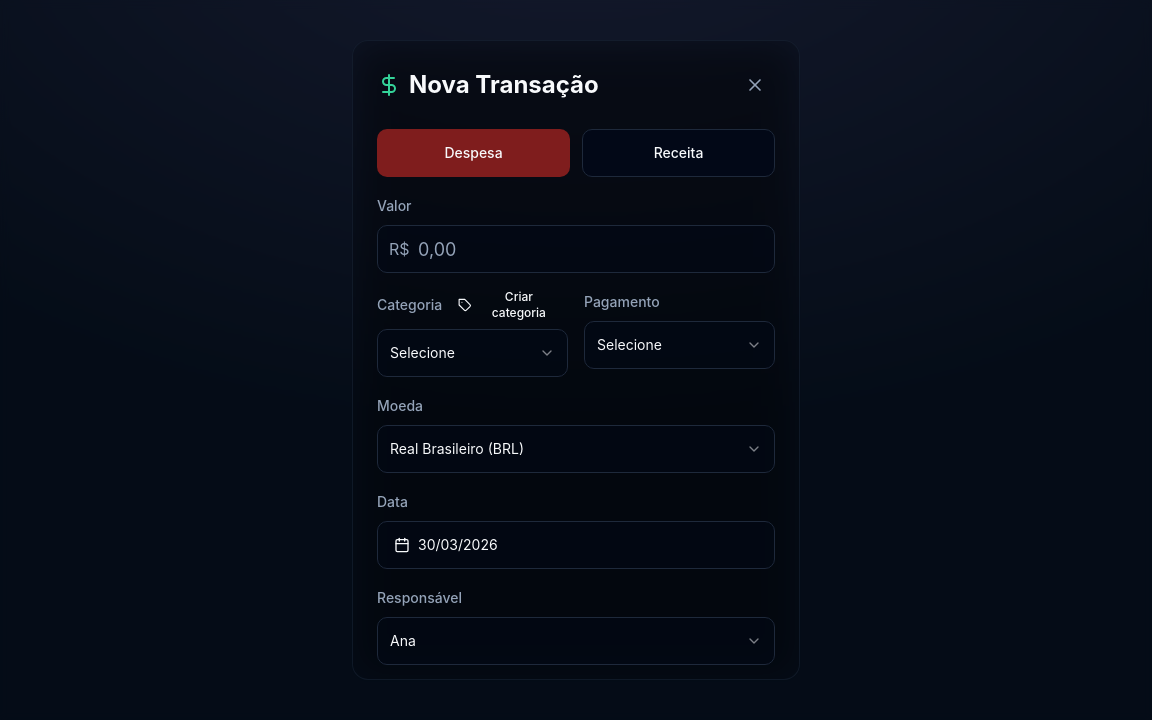
Test: TransactionForm – form validation and submission › shows category field when switching back to expense type
What coordinates should you click on to do the following:
click the button "Receita"
I would click on:
 (678, 153)
Its box is [582, 129, 775, 177].
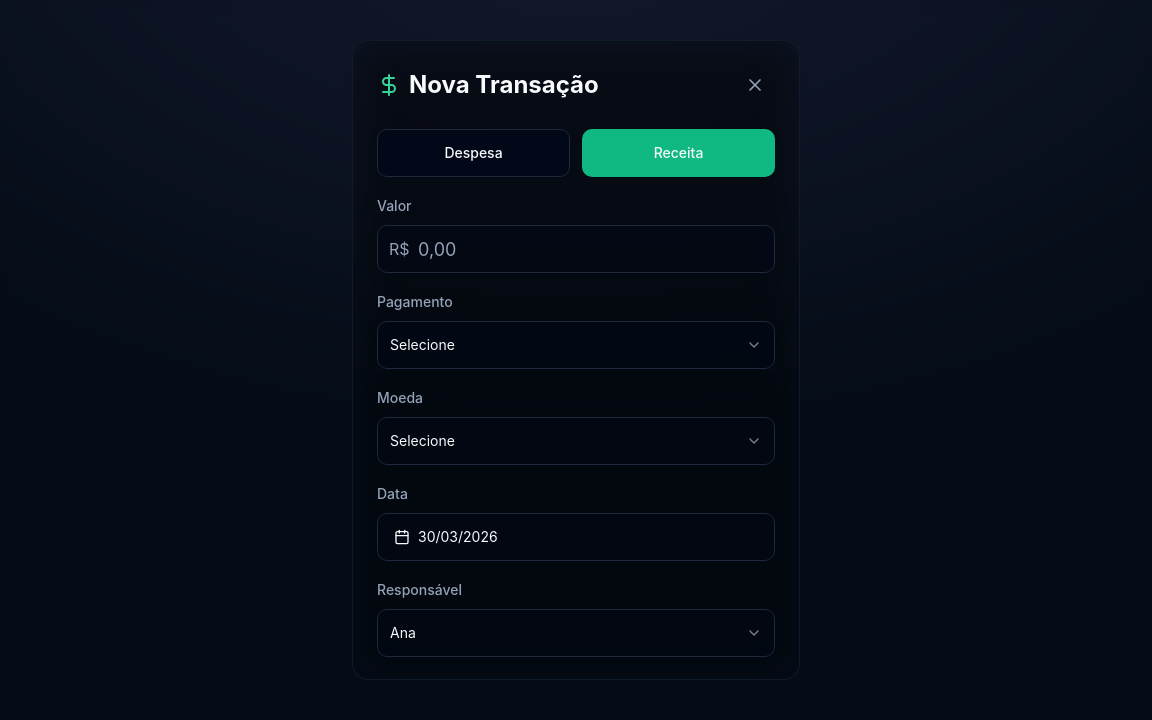
What coordinates should you click on to do the following:
click the button "Despesa"
I would click on:
 (474, 153)
Its box is [377, 129, 570, 177].
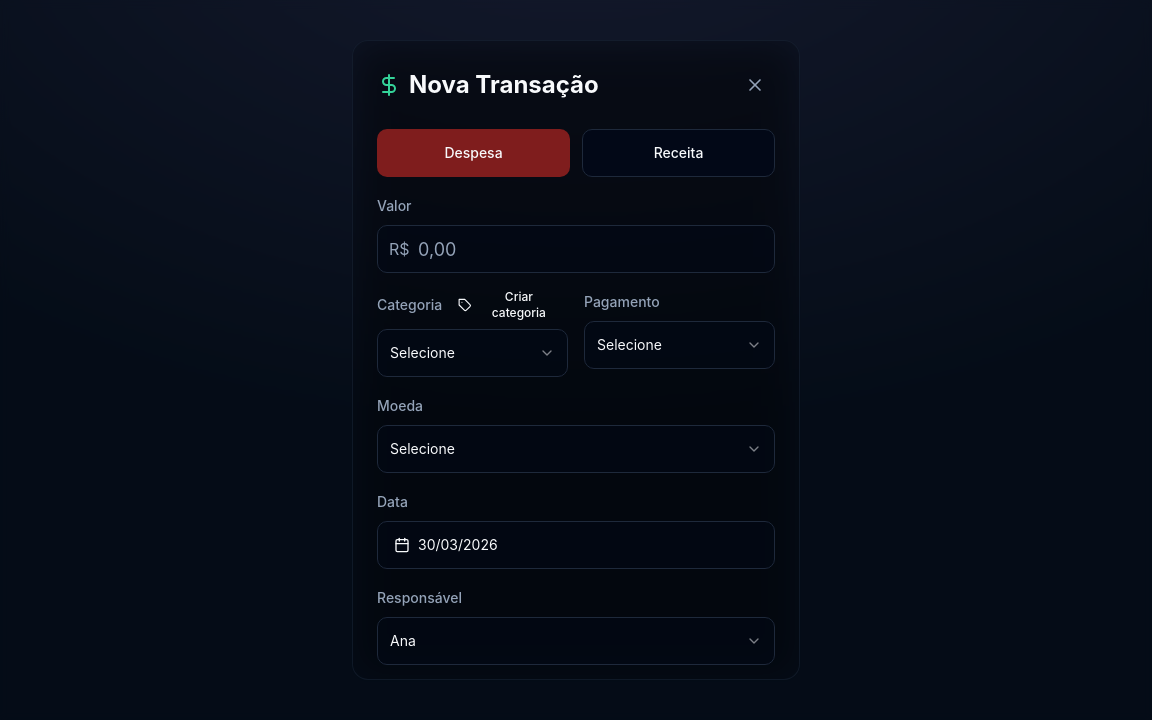
expect the text "Categoria" is shown: met, box [377, 298, 442, 312]
